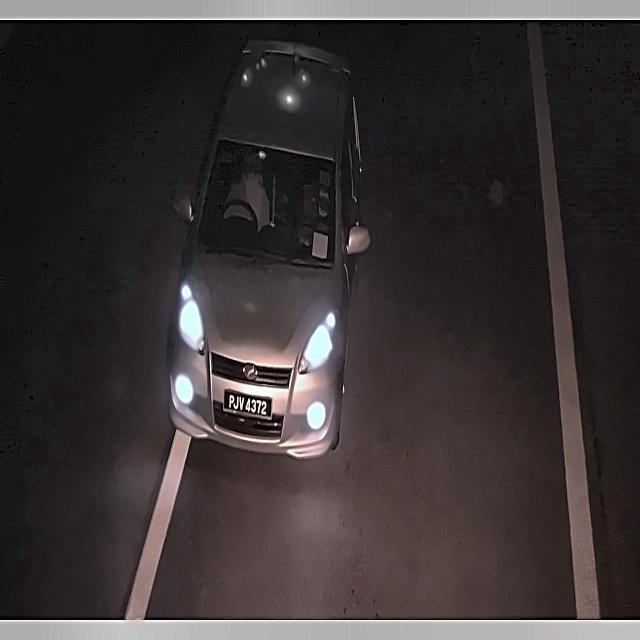car: (221, 385, 276, 430)
